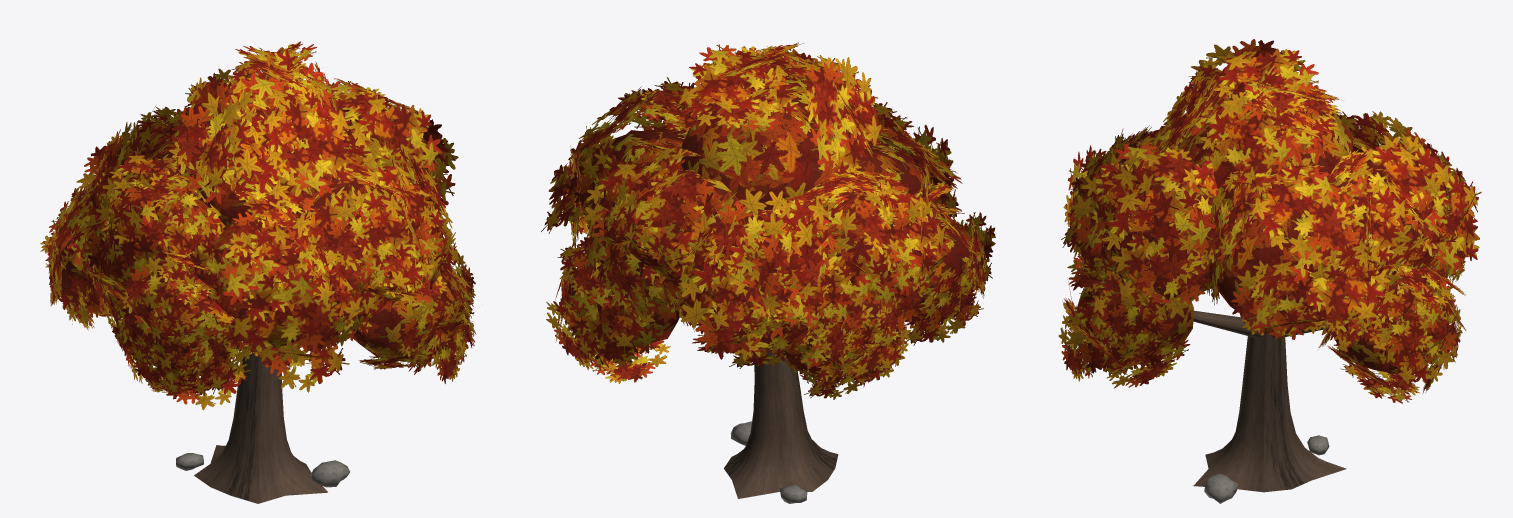
File: tree_maple_autumn.glb
The picture shows the model from 3 angles, left to right: view 1: azimuth 30°, elevation 25°; view 2: azimuth 150°, elevation 25°; view 3: azimuth 270°, elevation 25°; orthographic projection.
Parts seen in each view (by area): view 1: model; view 2: model; view 3: model.
Part boxes in pixels (x1,y1,x2,y2): model: [40, 41, 476, 503]; model: [541, 42, 995, 503]; model: [1058, 39, 1481, 503].
Bounding box in the file's own units: 6.18 × 6.21 × 5.84.
Materials: 4 (4 with a texture image).
